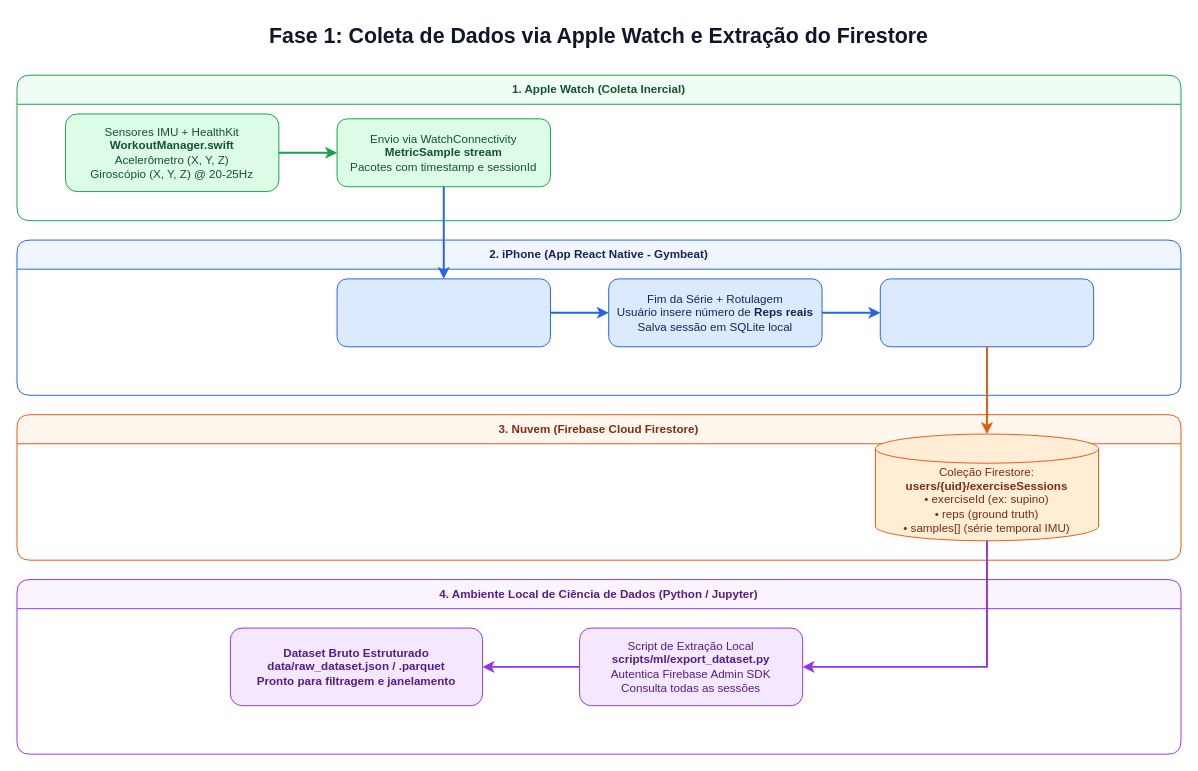
This 1198x771 diagram has some shape labels left out. The centre of each missing label's shape, as x and y in pixels:
Recepção de Amostras app/live/[id].tsx Buffer de amostras em tempo de tela: the point at 443,312
Sincronização com Firebase src/firebase/sync.ts Upload em lotes (batch): the point at 986,312
